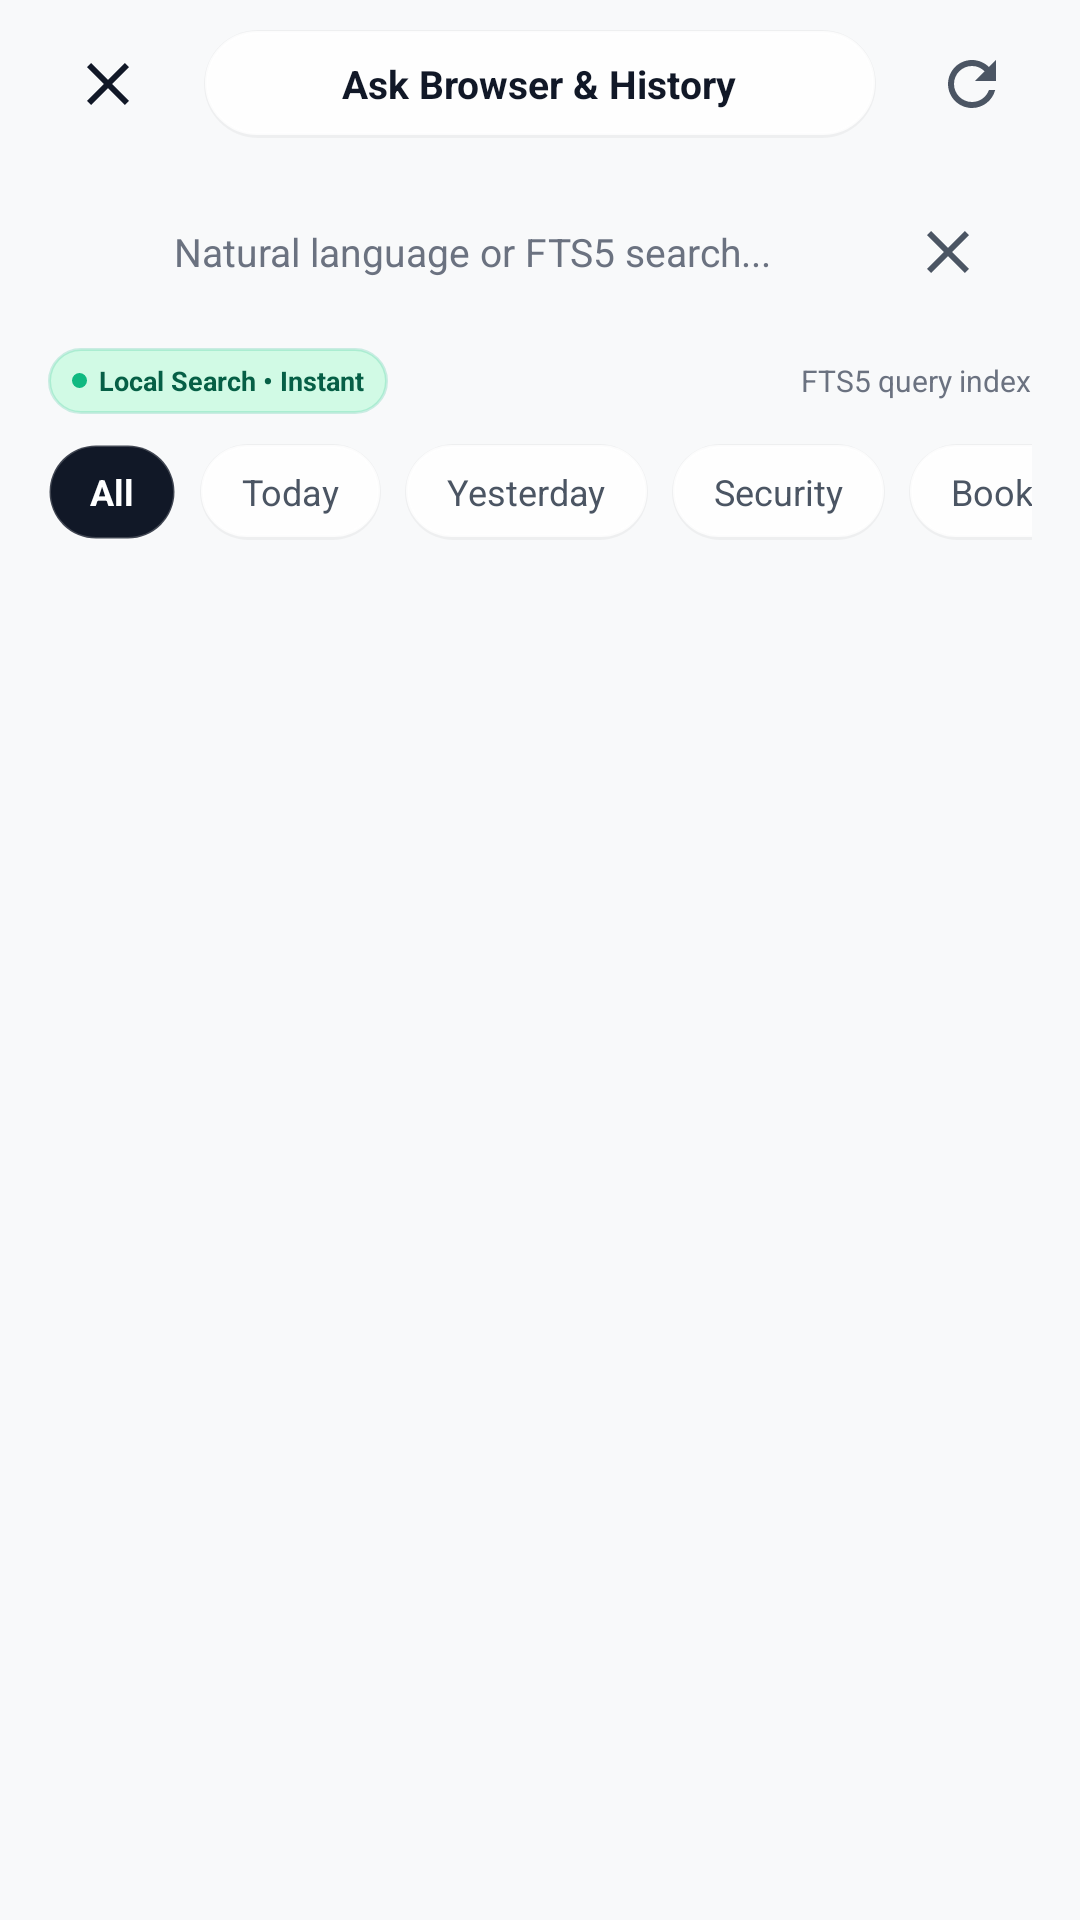

Screen size 1080w x 1920h. Icon name, then its box in pixels as (x1, y1, x2, y2):
Clear search: (927, 231, 969, 273)
Close: (87, 63, 129, 105)
